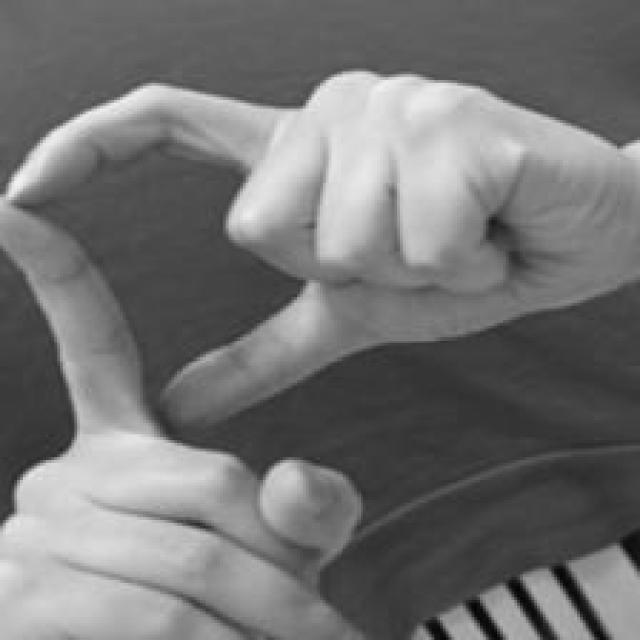D: (1, 64, 569, 640)
